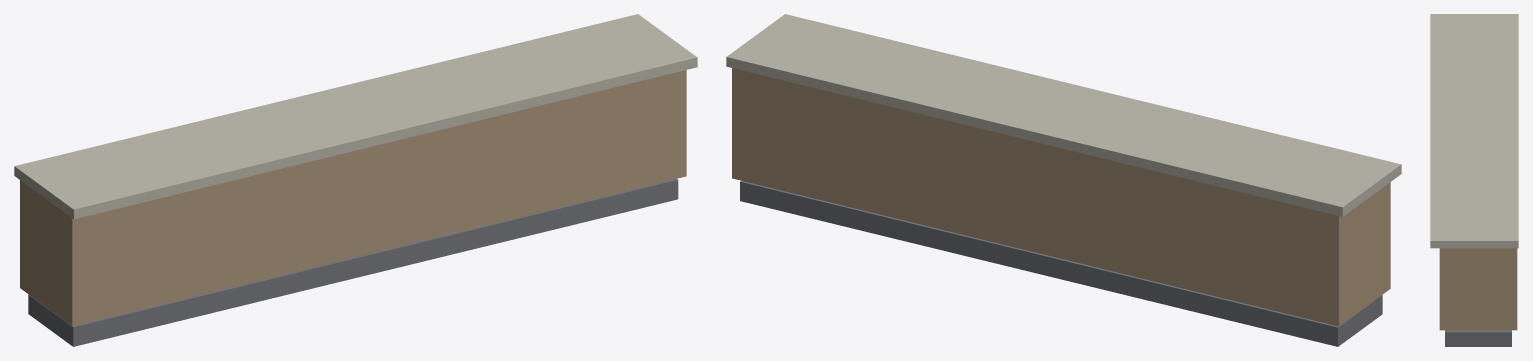
Rendered from mov_06bd4aa699.gltf.
3 renders of one model, left to right at view 1: azimuth 30°, elevation 25°; view 2: azimuth 150°, elevation 25°; view 3: azimuth 270°, elevation 25°, orthographic. The views are drawn at different scales.
Visible parts, largest first — view 1: mov_06bd4aa699; view 2: mov_06bd4aa699; view 3: mov_06bd4aa699.
Boxes of the visible parts, left/top/right/bottom form: mov_06bd4aa699: left=14, top=14, right=697, bottom=346; mov_06bd4aa699: left=726, top=14, right=1401, bottom=346; mov_06bd4aa699: left=1430, top=14, right=1518, bottom=346.
Size of the model in its own units: 4 by 0.9 by 0.66.
